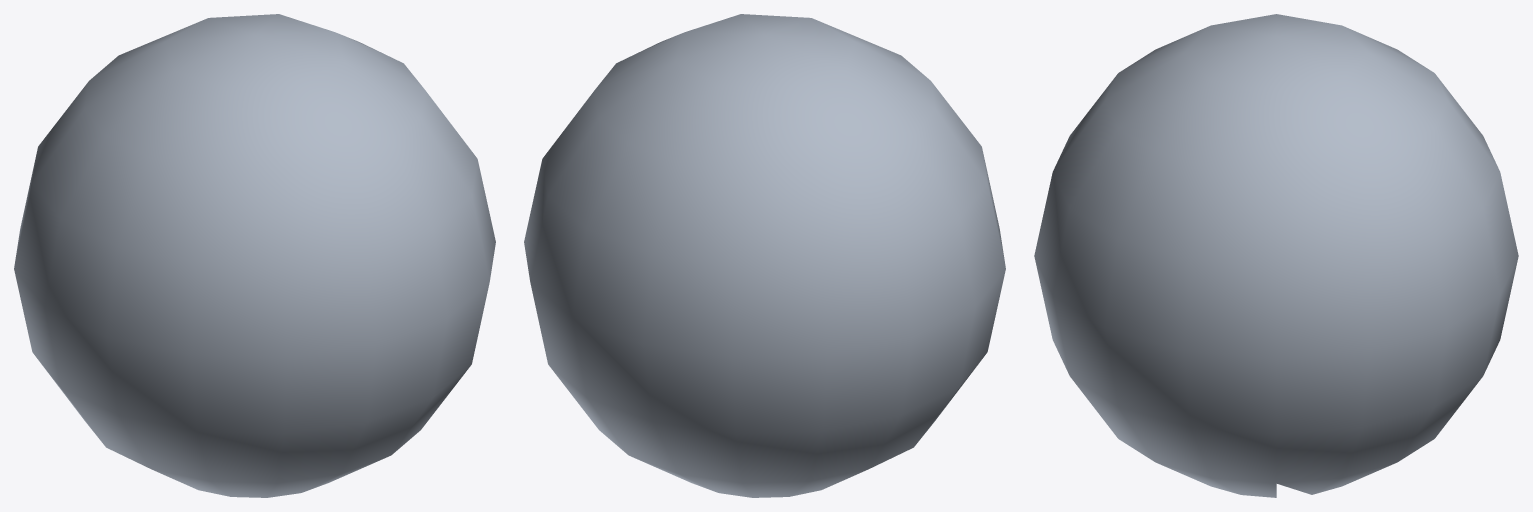
Rendered from metal_sphere.glb.
3 renders of one model, left to right at view 1: azimuth 30°, elevation 25°; view 2: azimuth 150°, elevation 25°; view 3: azimuth 270°, elevation 25°, orthographic.
Visible parts, largest first — view 1: Metal sphere; view 2: Metal sphere; view 3: Metal sphere.
Boxes of the visible parts, x1,y1,x2,y2 form: Metal sphere: (14,14,495,497); Metal sphere: (524,14,1005,497); Metal sphere: (1034,14,1518,497).
Bounding box in the file's own units: 2 × 2 × 2.
